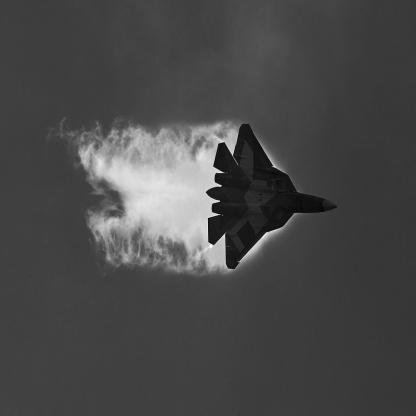Su57: (207, 124, 340, 271)
